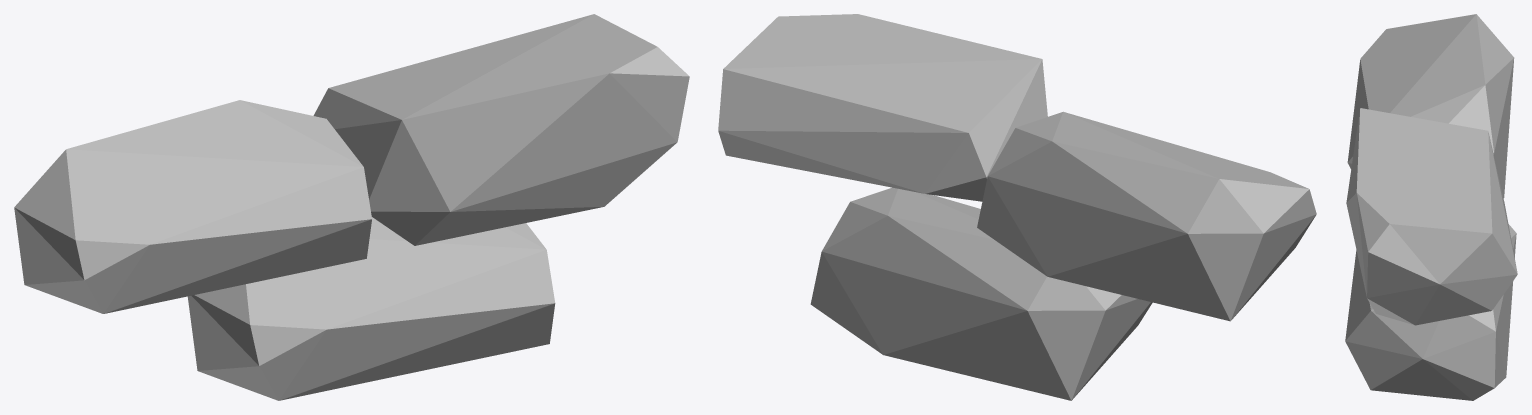
The model's file is stones_018.glb.
The picture shows the model from 3 angles, left to right: view 1: azimuth 30°, elevation 25°; view 2: azimuth 150°, elevation 25°; view 3: azimuth 270°, elevation 25°; orthographic projection. The views are drawn at different scales.
Visible parts, largest first — view 1: stones_018; view 2: stones_018; view 3: stones_018.
Part boxes in pixels (x1,y1,x2,y2): stones_018: [14, 14, 689, 400]; stones_018: [718, 14, 1316, 400]; stones_018: [1345, 14, 1517, 400].
Bounding box in the file's own units: 2.52 × 1.12 × 0.7427.
1 material, 1 textured.
